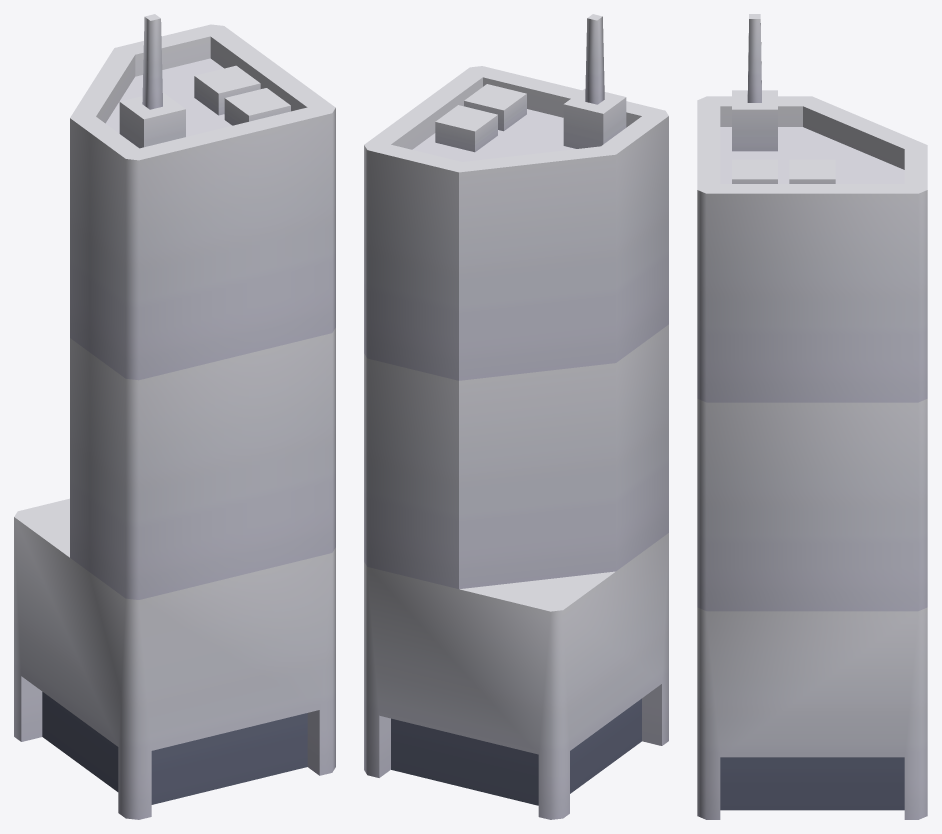
The model's file is low-detail-building-j.glb.
3 renders of one model, left to right at view 1: azimuth 30°, elevation 25°; view 2: azimuth 150°, elevation 25°; view 3: azimuth 270°, elevation 25°, orthographic. The views are drawn at different scales.
Visible parts, largest first — view 1: low-detail-building-j; view 2: low-detail-building-j; view 3: low-detail-building-j.
Boxes of the visible parts, left/top/right/bottom form: low-detail-building-j: left=14, top=14, right=335, bottom=819; low-detail-building-j: left=364, top=14, right=668, bottom=819; low-detail-building-j: left=697, top=14, right=927, bottom=819.
Bounding box in the file's own units: 0.5 × 1.75 × 0.5.
Materials: 1 (1 with a texture image).
